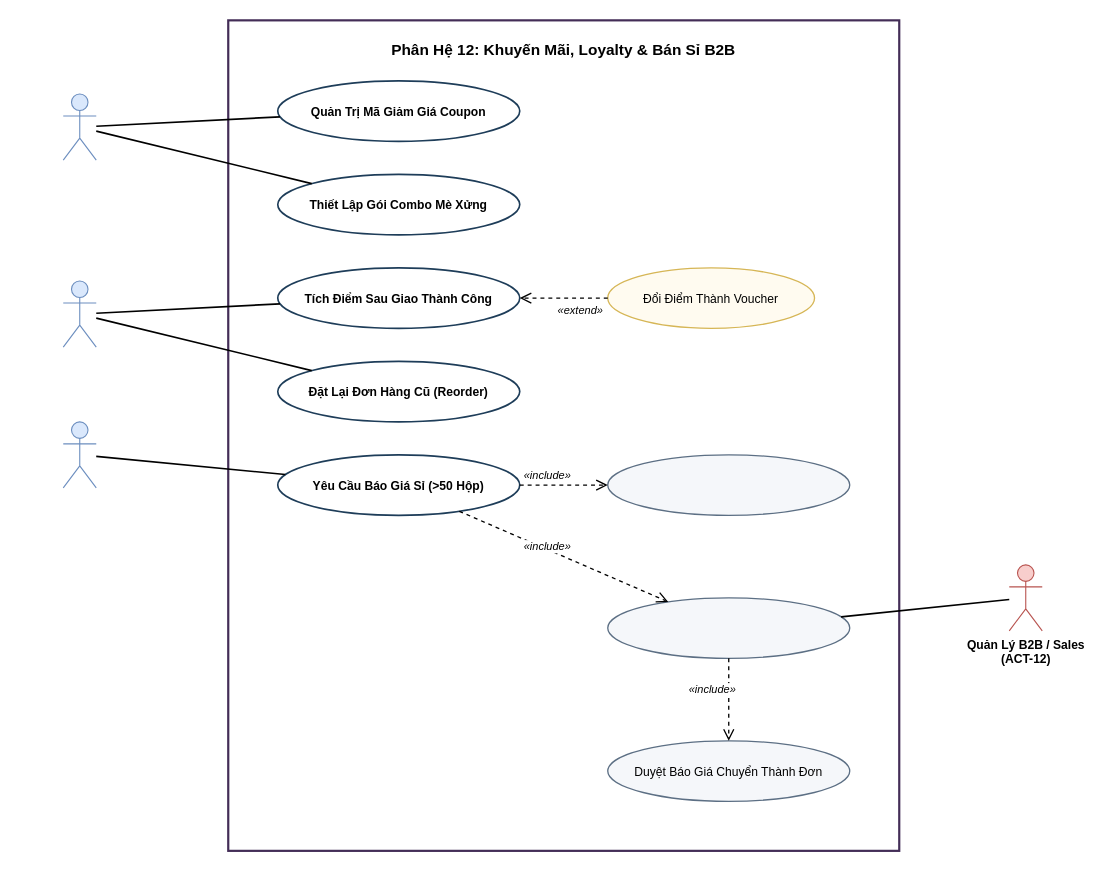
This 1103x870 diagram has some shape labels left out. The box of each missing label's shape, as (x1, y1, x2, y2) in pixels:
Khách Doanh Nghiệp (ACT-03): (62, 421, 96, 488)
Khách Hàng (ACT-02): (62, 280, 96, 347)
Marketing Manager (ACT-14): (62, 93, 96, 160)
Thẩm Định Bảng Giá Chiết Khấu: (607, 597, 850, 658)
Upload Logo Bao Bì Doanh Nghiệp: (607, 454, 850, 515)
